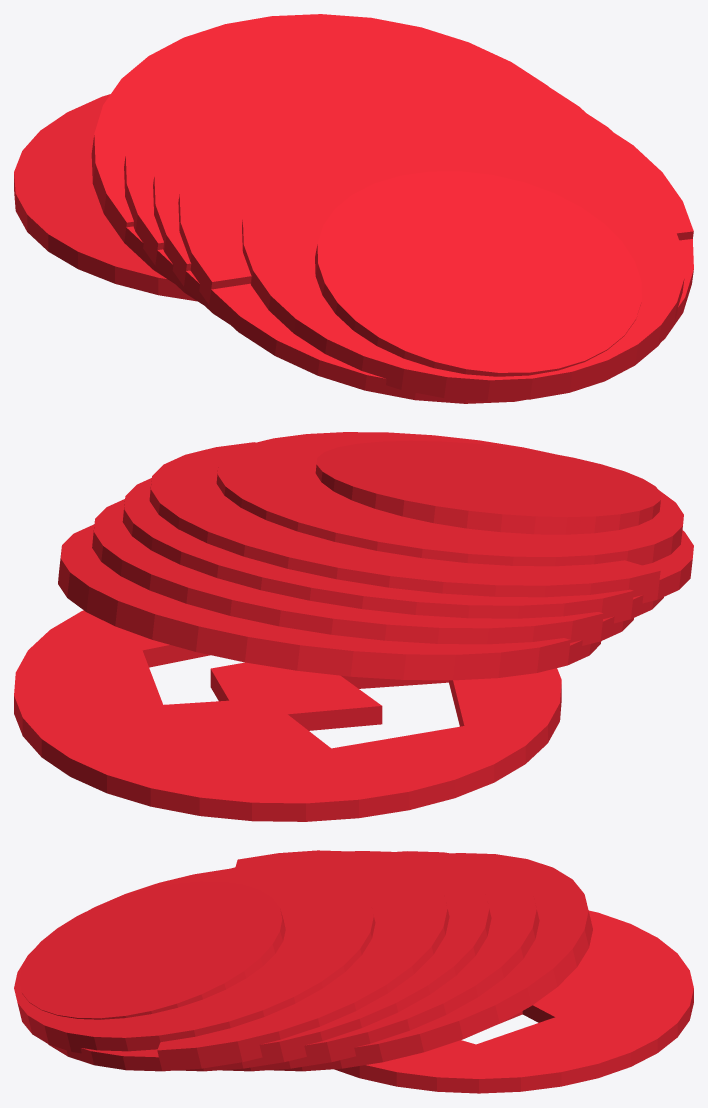
The model's file is Tomaat snij2.fbx.
3 renders of one model, top to bottom at view 1: azimuth 30°, elevation 25°; view 2: azimuth 150°, elevation 25°; view 3: azimuth 270°, elevation 25°, orthographic. The views are drawn at different scales.
Parts seen in each view (by area): view 1: Circle; view 2: Circle; view 3: Circle.
Part boxes in pixels (left/top/right/bottom): Circle: left=14, top=14, right=693, bottom=403; Circle: left=14, top=432, right=693, bottom=821; Circle: left=14, top=850, right=693, bottom=1093.
Size of the model in its own units: 208 by 53.83 by 316.
